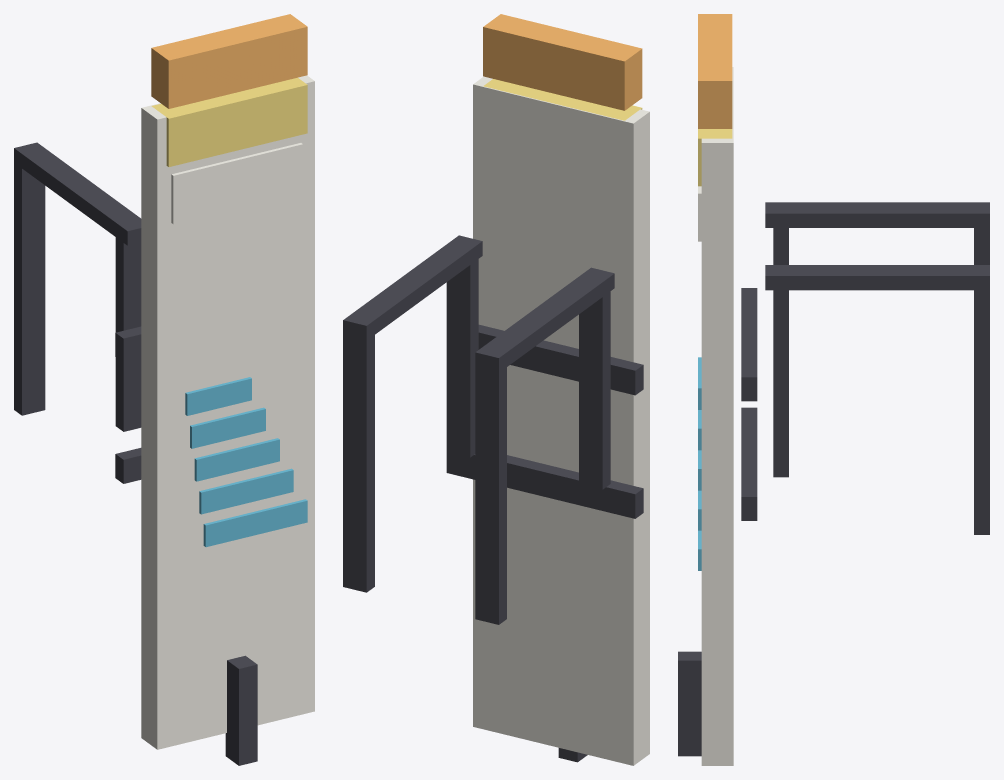
The model's file is prancha_surf.glb.
3 renders of one model, left to right at view 1: azimuth 30°, elevation 25°; view 2: azimuth 150°, elevation 25°; view 3: azimuth 270°, elevation 25°, orthographic. The views are drawn at different scales.
Parts seen in each view (by area): view 1: prancha_surf; view 2: prancha_surf; view 3: prancha_surf.
Part boxes in pixels (x1,y1,x2,y2): prancha_surf: (14,14,314,765); prancha_surf: (343,14,649,765); prancha_surf: (678,14,989,765).
Size of the model in its own units: 0.4 by 1.47 by 0.59.
